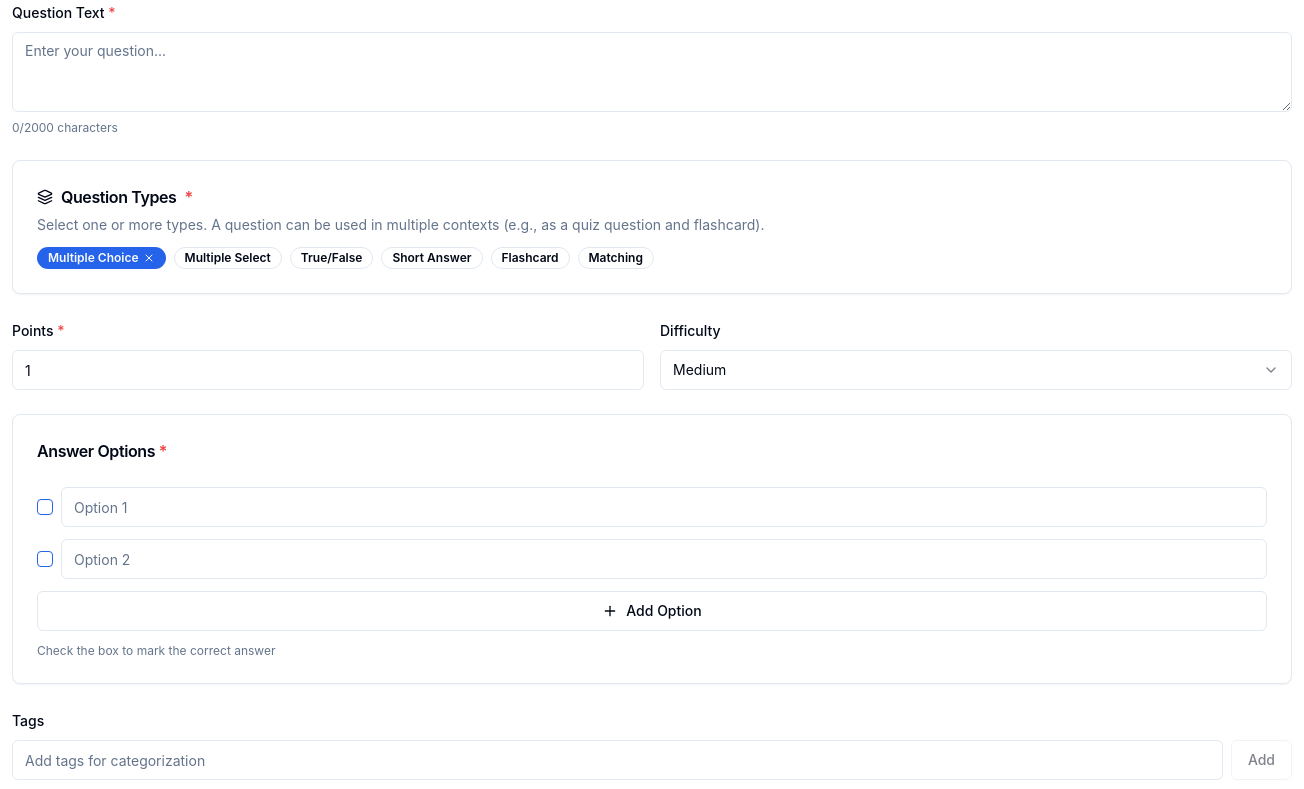
Test: QuestionForm › Question Text Field › should display character counter
Type "Test question" into the text box labelled "Question Text *" at (652, 72), box [12, 32, 1292, 112]
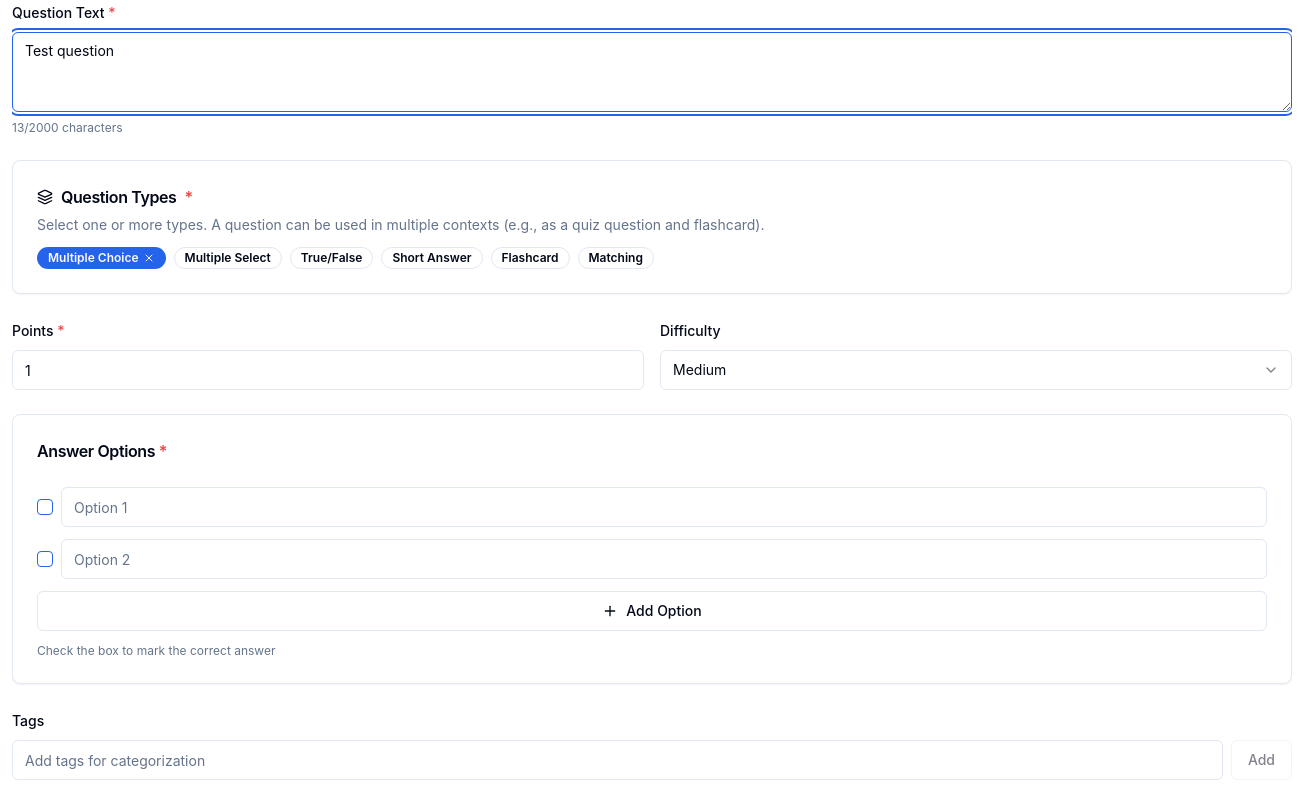
Check: the text "13/2000 characters" is shown, box [12, 120, 122, 135]
